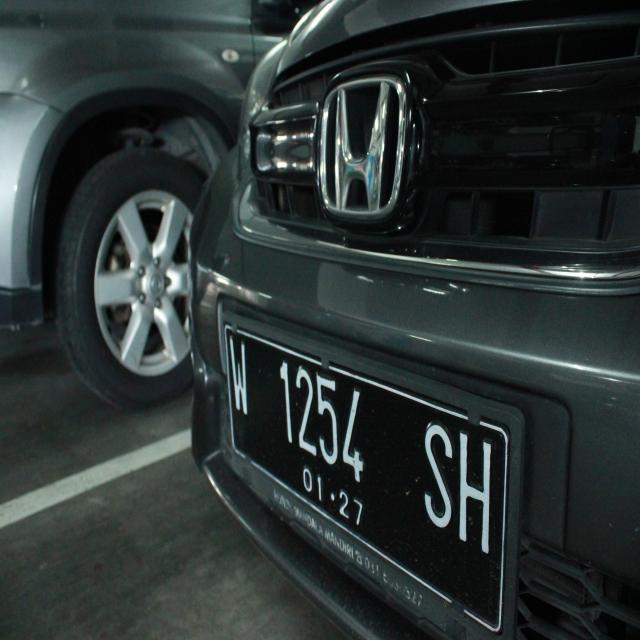1: (272, 351, 302, 454)
2: (292, 357, 320, 465)
4: (334, 373, 372, 493)
5: (309, 362, 342, 464)
H: (453, 420, 501, 570)
S: (414, 402, 462, 546)
W: (220, 329, 258, 428)
